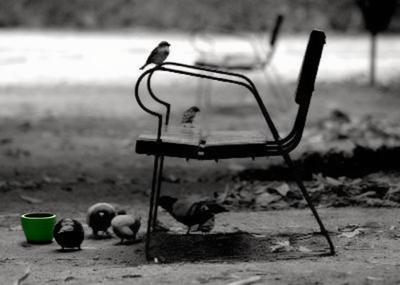bird: (155, 194, 232, 235), (84, 202, 119, 238), (112, 209, 143, 246), (54, 218, 87, 252), (139, 40, 172, 71), (181, 104, 204, 130)
chair: (133, 29, 339, 262)
pottedplant: (21, 213, 55, 245)
